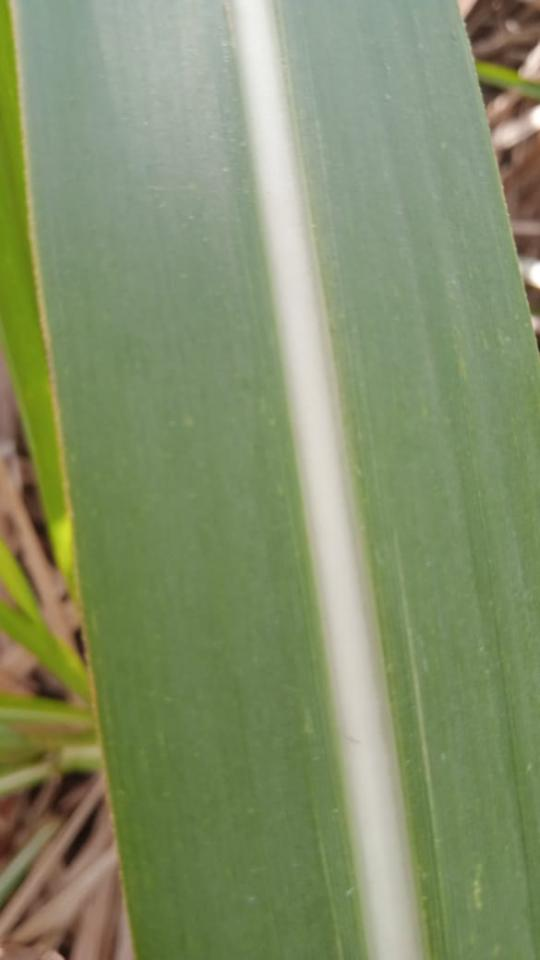Healthy: (8, 0, 539, 959)
